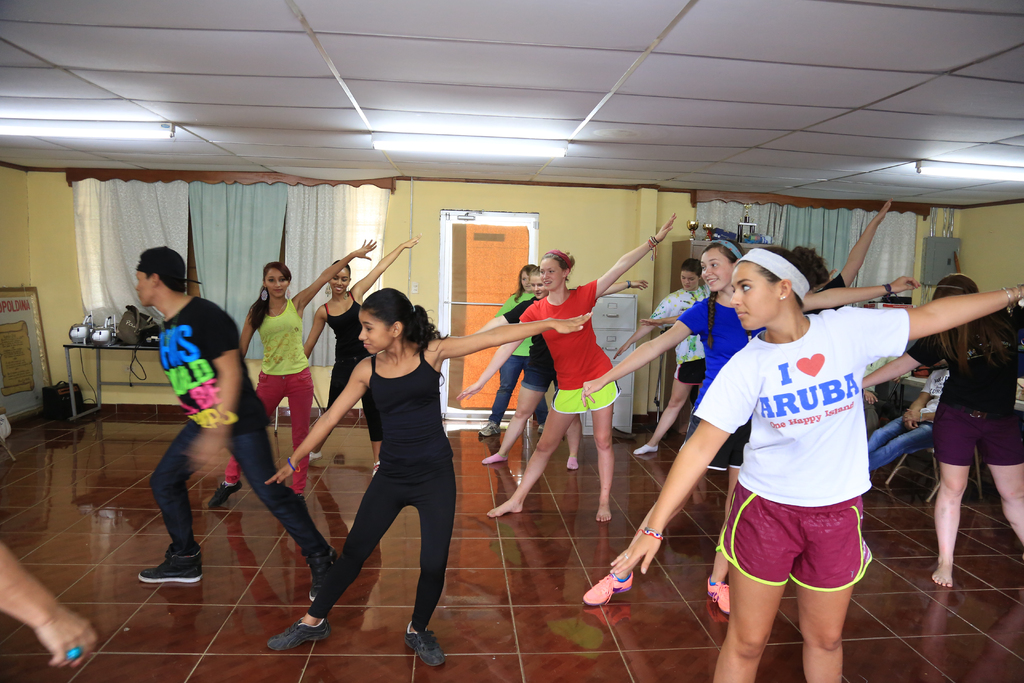Person: (0, 197, 1024, 683)
